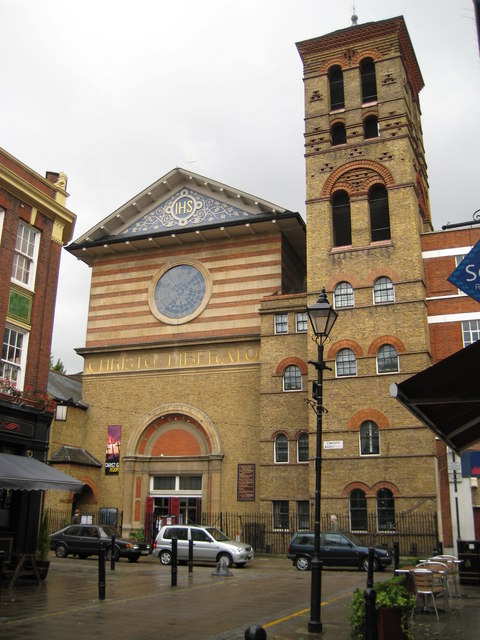fachada: (78, 0, 480, 570), (3, 135, 80, 627)
poste: (293, 285, 350, 637)
